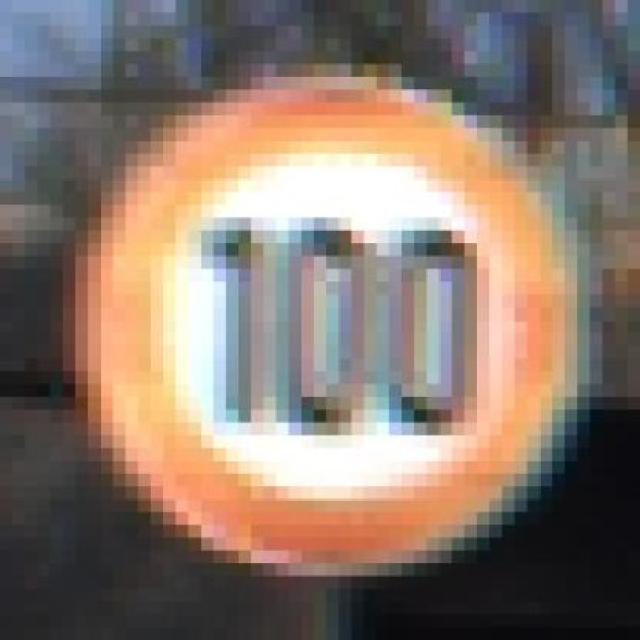forb_speed_over_100: (83, 85, 569, 567)
